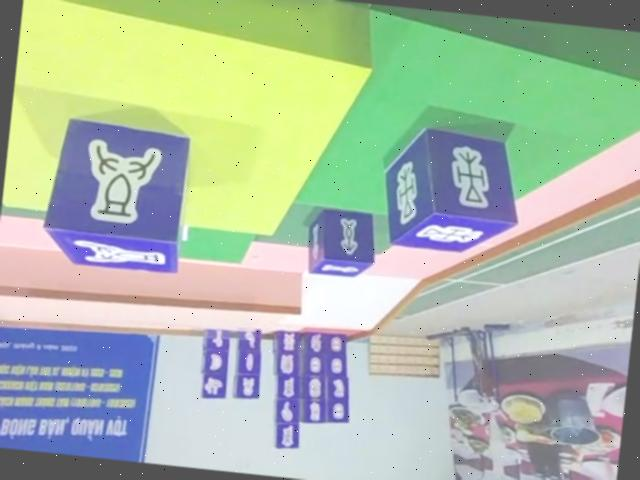R2 Real Blue: (41, 114, 196, 275), (382, 120, 530, 257), (304, 203, 381, 279)
